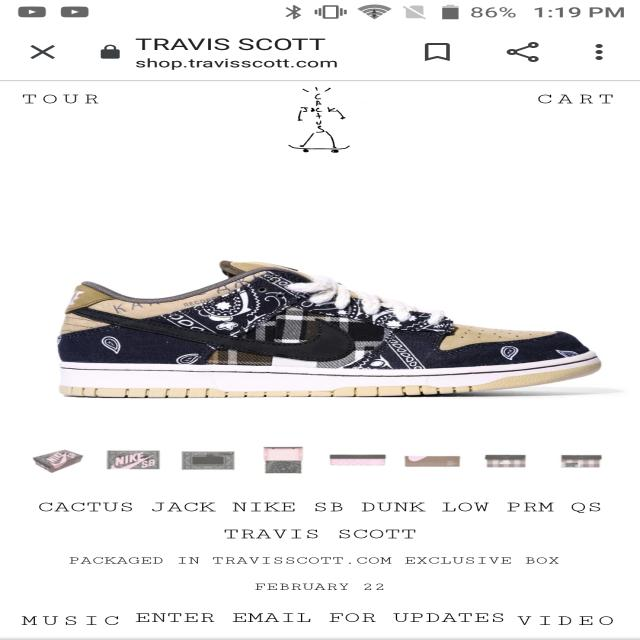shoe: (28, 256, 607, 402)
